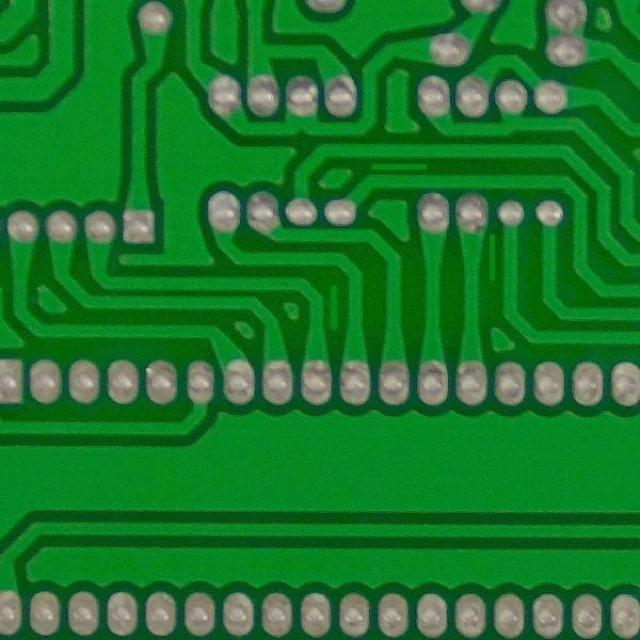Spurious_Cooper: (482, 229, 503, 286), (324, 279, 344, 336), (366, 160, 433, 174)
